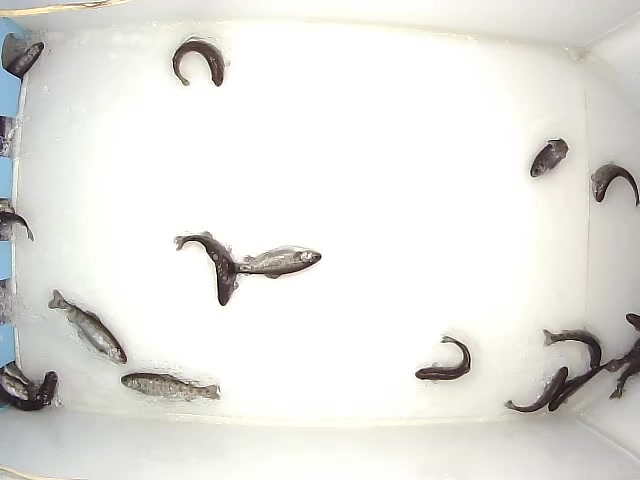fish: (44, 288, 127, 366), (171, 228, 239, 306), (229, 243, 323, 281), (119, 370, 224, 404), (502, 362, 568, 414), (413, 332, 473, 383), (169, 36, 225, 90), (553, 362, 610, 415), (543, 325, 600, 372), (593, 162, 640, 208), (529, 137, 570, 180)
